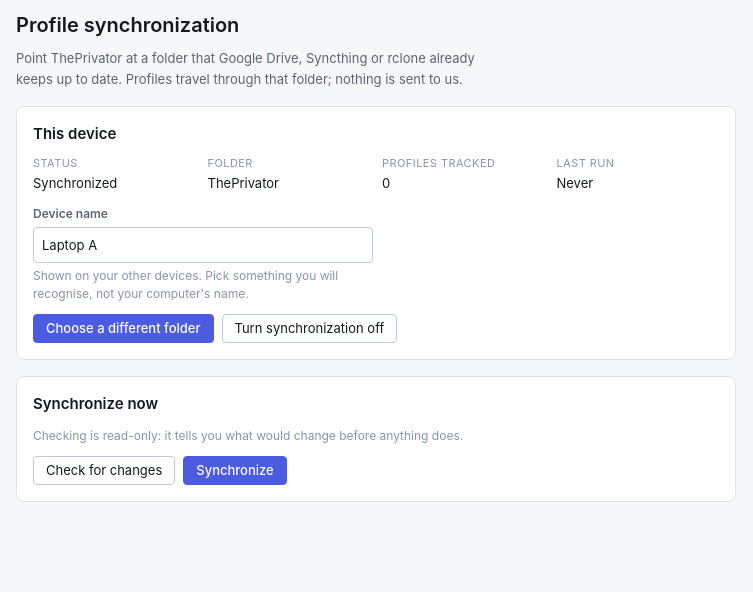
Test: SyncSettings › says where replaced browsing data went, and that nothing was deleted
This screenshot has width=753, height=592.
Click the button "Synchronize" at (235, 470), box [183,456,287,485]
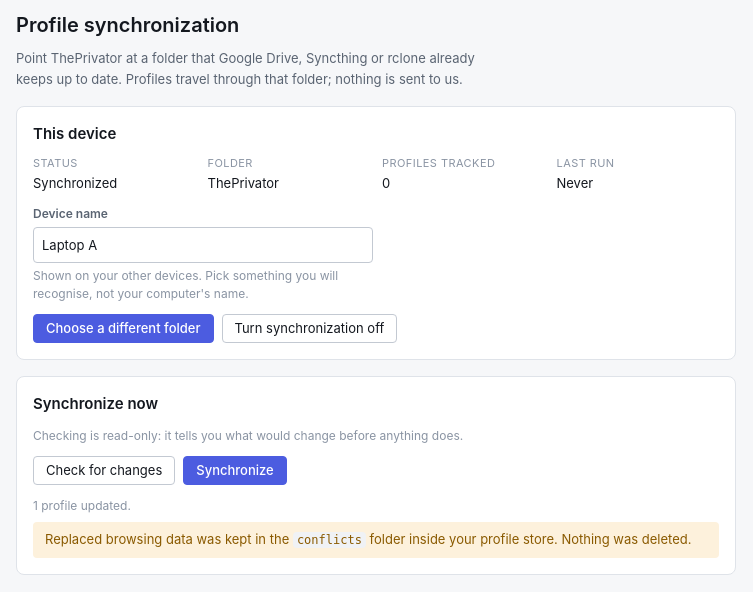
Now the text "nothing was deleted" is shown, box [366,531,692,547]
